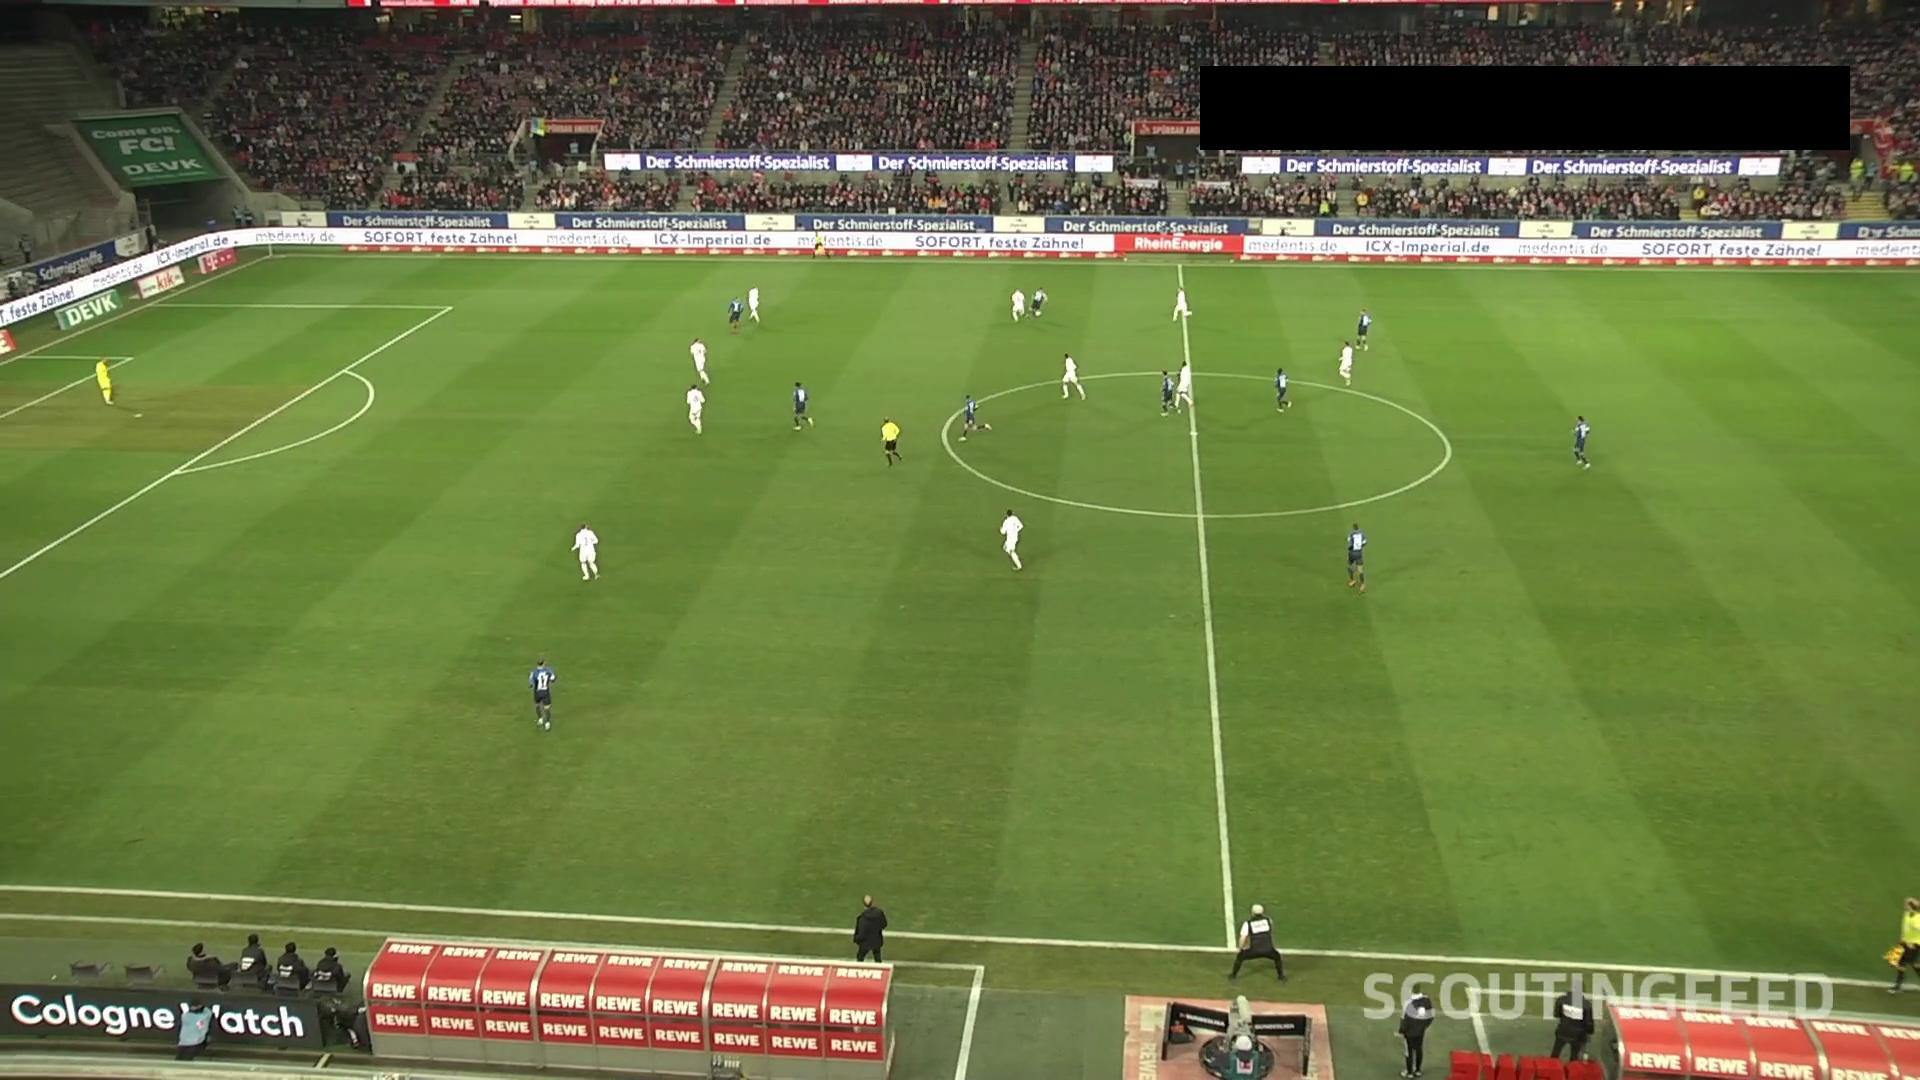ball: (1034, 309, 1042, 319)
goalkeeper: (94, 355, 116, 406)
player: (528, 654, 557, 731), (1342, 521, 1369, 596), (956, 394, 993, 444), (571, 521, 600, 582), (999, 508, 1024, 571), (1061, 352, 1087, 400), (792, 380, 814, 430), (1572, 414, 1592, 468), (1174, 361, 1194, 414), (689, 337, 710, 386), (686, 383, 705, 434), (1171, 285, 1193, 323), (1025, 286, 1048, 322), (1338, 339, 1354, 388), (1160, 370, 1176, 415), (1275, 367, 1291, 412), (1356, 307, 1372, 351), (728, 296, 745, 334), (1010, 289, 1026, 325), (747, 286, 761, 325)
referee: (1886, 896, 1920, 996), (880, 416, 905, 470), (811, 231, 832, 261)
